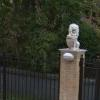Statue: (54, 21, 89, 100)
